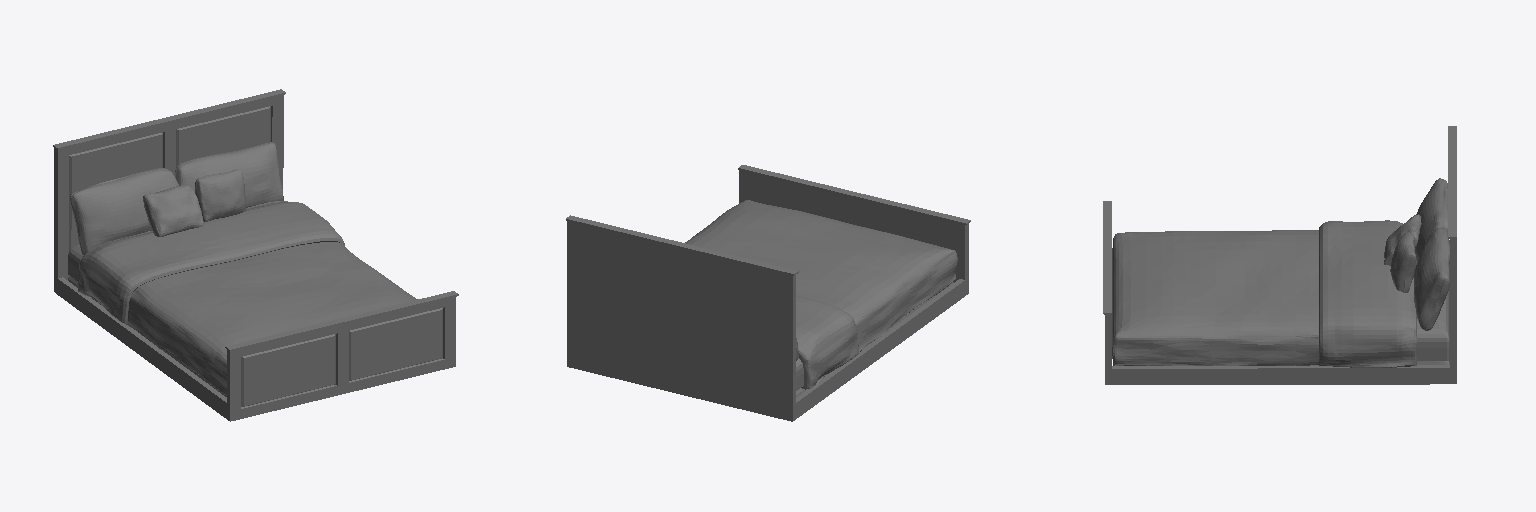
Rendered from Bed_done.obj.
The picture shows the model from 3 angles: view 1: azimuth 30°, elevation 25°; view 2: azimuth 150°, elevation 25°; view 3: azimuth 270°, elevation 25°; orthographic projection.
Visible parts, largest first — view 1: Box14544, Box14540, Box14541, Box14543, Box14539, Box14546, Box14548, Box14547; view 2: Box14541, Box14544, Box14540, Box14539; view 3: Box14544, Box14538, Box14546, Box14541, Box14542, Box14540, Box14543, Box14547, Box14548.
Boxes of the visible parts, x1,y1,x2,y2 form: Box14544: [78, 201, 417, 395]; Box14540: [225, 291, 458, 421]; Box14541: [53, 89, 285, 293]; Box14543: [70, 168, 178, 255]; Box14539: [57, 277, 226, 418]; Box14546: [175, 142, 283, 207]; Box14548: [143, 185, 203, 236]; Box14547: [195, 169, 246, 221]; Box14541: [566, 215, 798, 421]; Box14544: [685, 200, 957, 389]; Box14540: [738, 165, 970, 295]; Box14539: [796, 279, 964, 418]; Box14544: [1112, 220, 1416, 367]; Box14538: [1112, 365, 1450, 384]; Box14546: [1414, 228, 1449, 330]; Box14541: [1448, 126, 1456, 383]; Box14542: [1112, 240, 1449, 360]; Box14540: [1103, 201, 1111, 384]; Box14543: [1415, 178, 1447, 262]; Box14547: [1390, 232, 1415, 292]; Box14548: [1384, 214, 1421, 265].
Bounding box in the file's own units: 149 × 92.14 × 199.